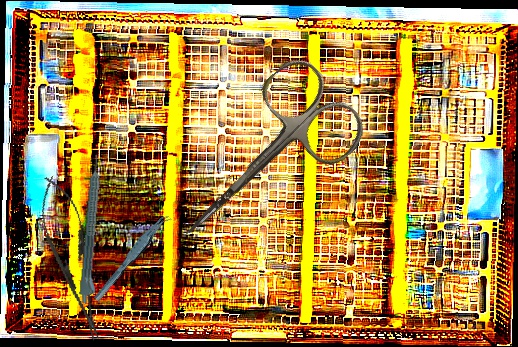Handpiece: (78, 154, 109, 305)
Iris Scissors: (144, 49, 375, 276)
Needle Holder: (29, 171, 115, 346)
Tissue Forceps: (84, 212, 180, 303)
